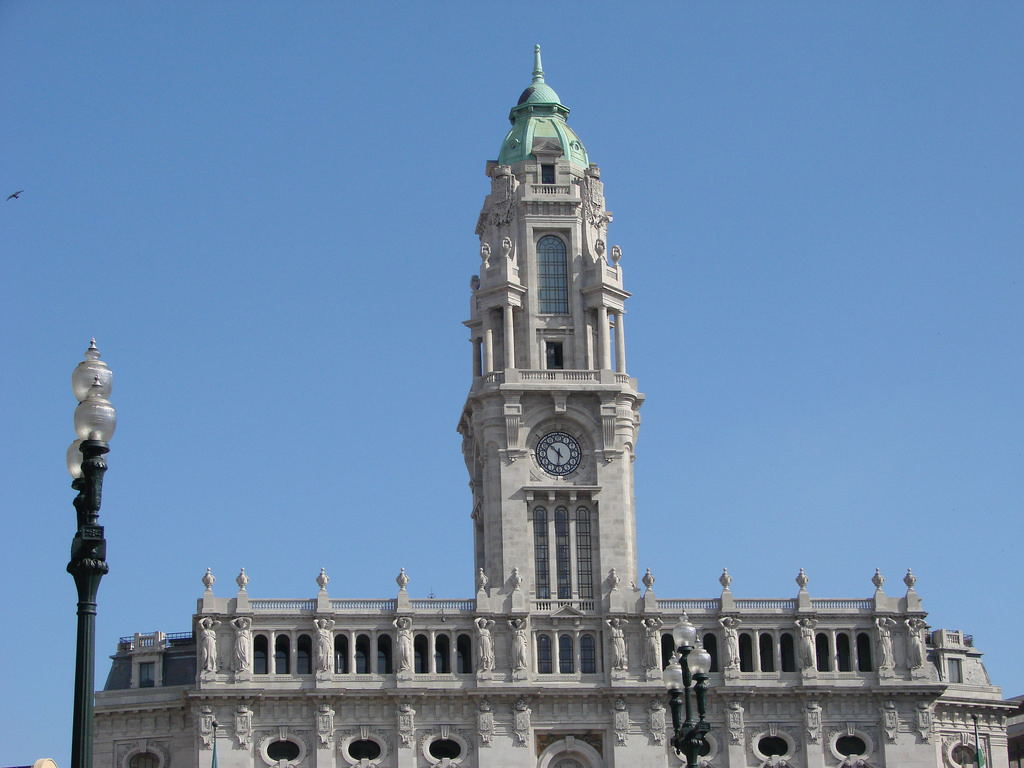camara: (88, 40, 1023, 767)
